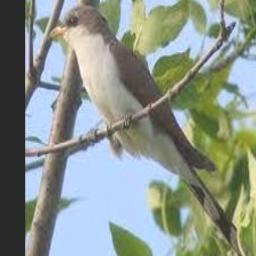Cuckoo: (48, 6, 251, 256)
